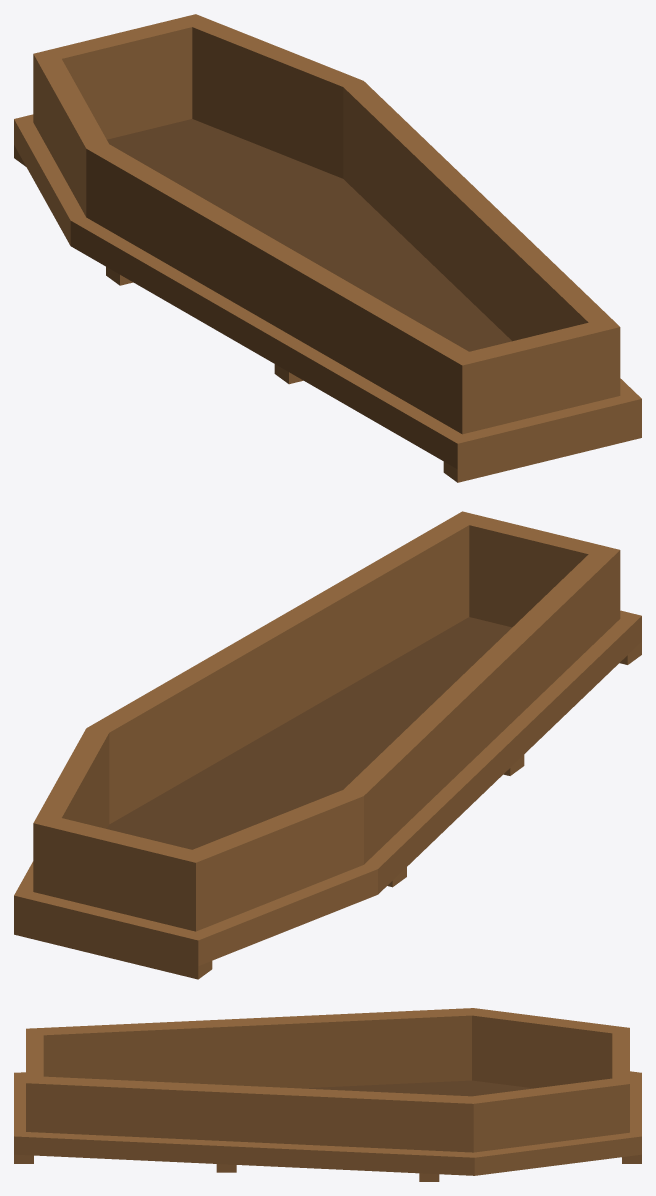
File: Casket_Timber_Open_01.fbx
3 renders of one model, top to bottom at view 1: azimuth 30°, elevation 25°; view 2: azimuth 150°, elevation 25°; view 3: azimuth 270°, elevation 25°, orthographic. The views are drawn at different scales.
Parts seen in each view (by area): view 1: Model; view 2: Model; view 3: Model.
Boxes of the visible parts, x1,y1,x2,y2 form: Model: (14, 14, 641, 482); Model: (14, 511, 641, 979); Model: (14, 1008, 641, 1181).
Size of the model in its own units: 413 by 139 by 1033.
